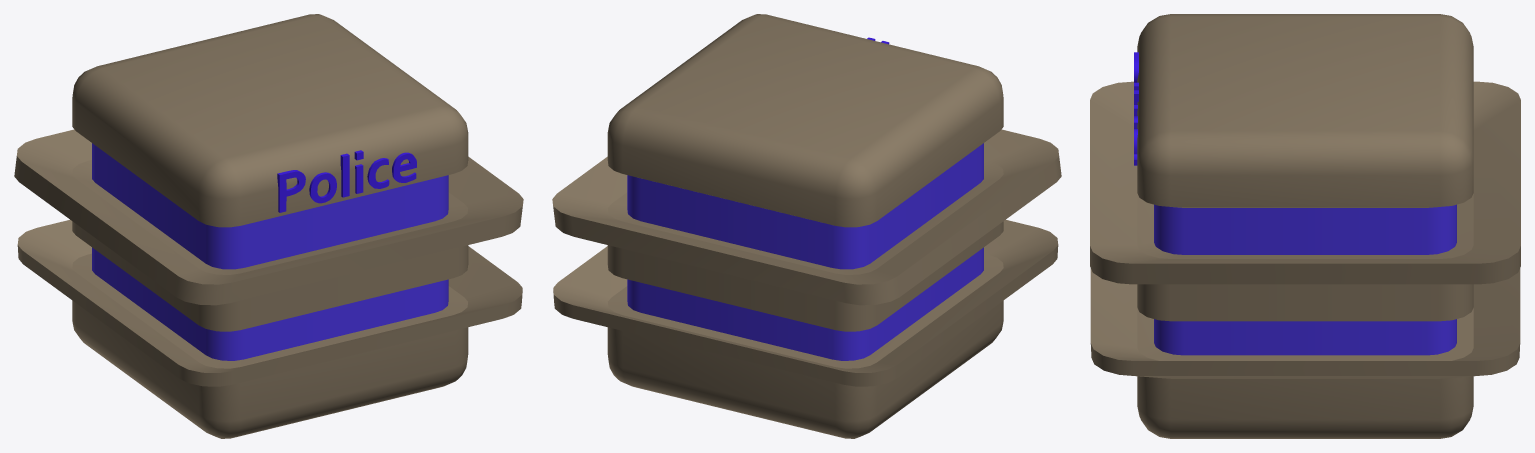
Rendered from EdificioPolice.fbx.
The picture shows the model from 3 angles, left to right: view 1: azimuth 30°, elevation 25°; view 2: azimuth 150°, elevation 25°; view 3: azimuth 270°, elevation 25°; orthographic projection. The views are drawn at different scales.
Parts seen in each view (by area): view 1: Roundcube; view 2: Roundcube; view 3: Roundcube.
Part boxes in pixels (<box>): Roundcube: <box>14,14,523,438</box>; Roundcube: <box>552,14,1061,438</box>; Roundcube: <box>1090,14,1520,438</box>.
Bounding box in the file's own units: 6.6 × 6.55 × 5.12.
